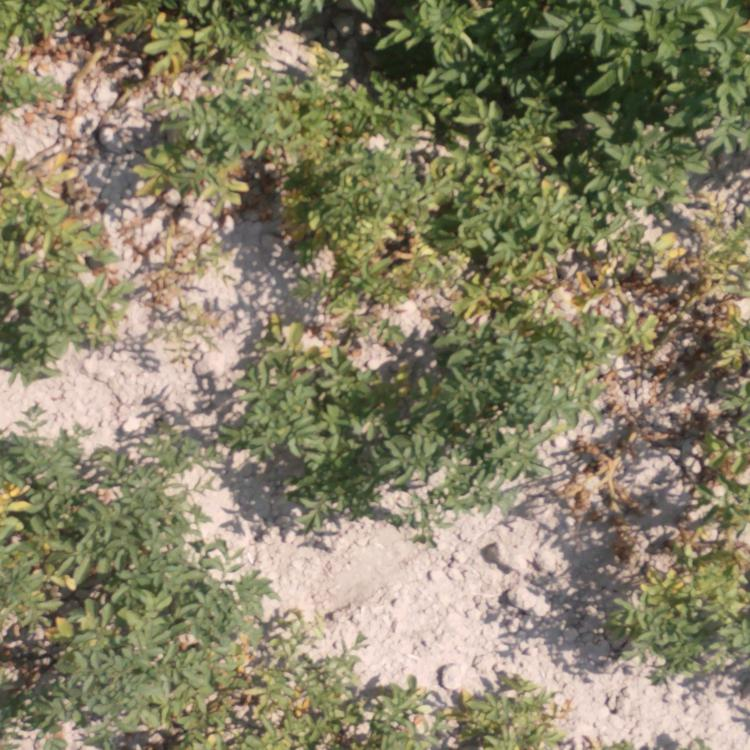healthy: (363, 1, 737, 128), (94, 427, 229, 633), (237, 372, 397, 522), (408, 333, 545, 491)
stressed: (391, 148, 750, 324), (6, 649, 547, 750), (140, 83, 368, 248), (1, 140, 129, 373), (608, 513, 750, 705), (252, 246, 390, 374), (5, 436, 79, 648), (105, 1, 277, 73), (1, 4, 105, 111), (696, 330, 748, 485), (549, 327, 627, 414)
